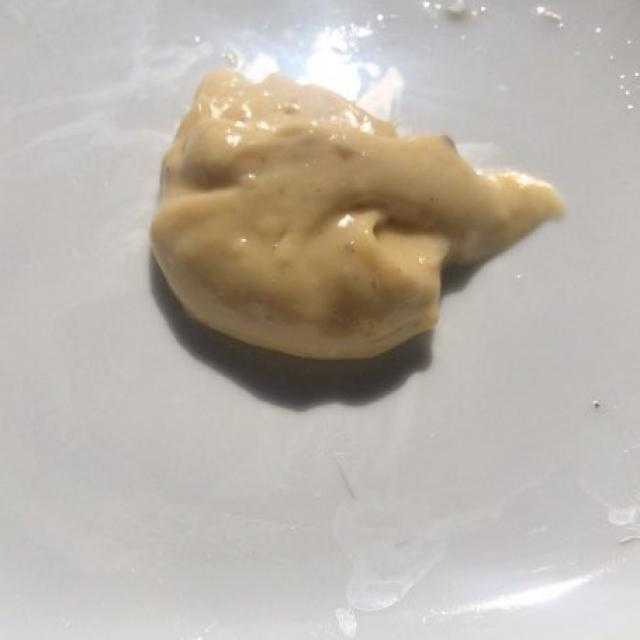mayonnaise: (154, 65, 556, 358)
